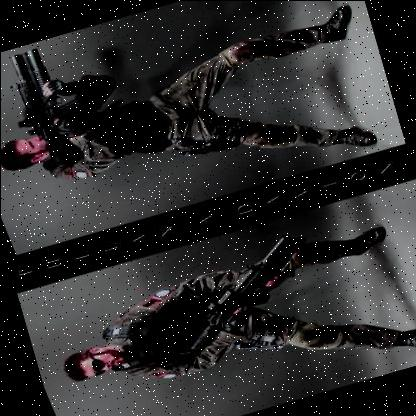rifle: (163, 224, 333, 366), (1, 38, 98, 184)
